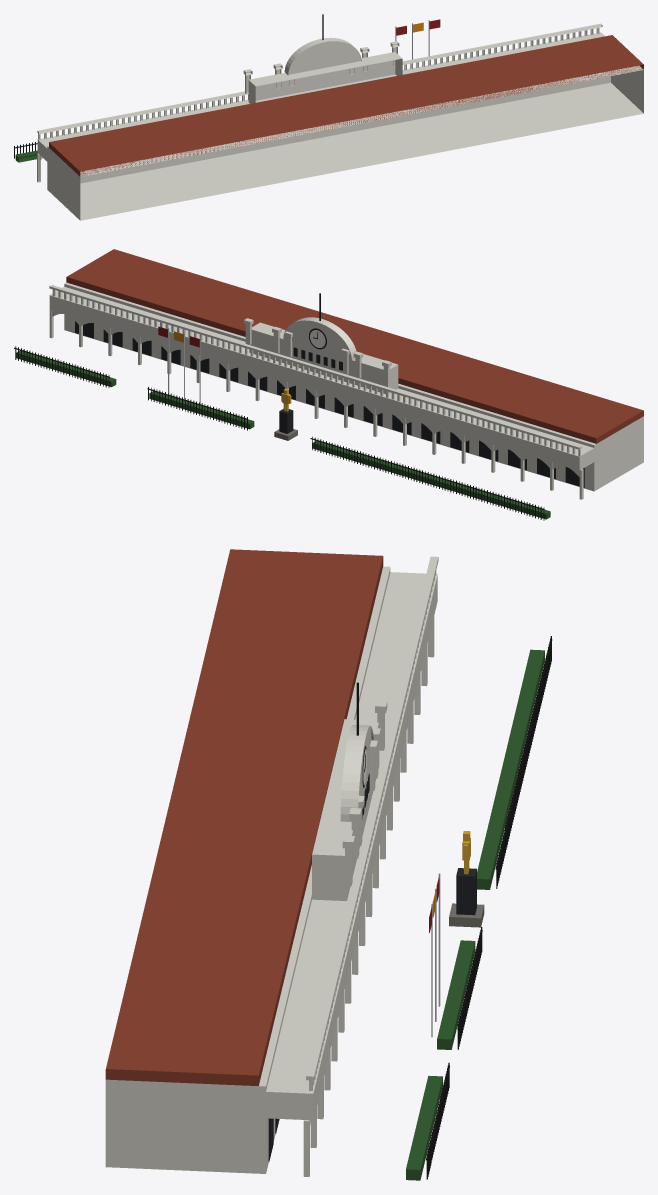
The model's file is fort-station.glb.
The picture shows the model from 3 angles, top to bottom: view 1: azimuth 30°, elevation 25°; view 2: azimuth 150°, elevation 25°; view 3: azimuth 270°, elevation 25°; orthographic projection. The views are drawn at different scales.
Size of the model in its own units: 86.22 by 17.5 by 30.49.
